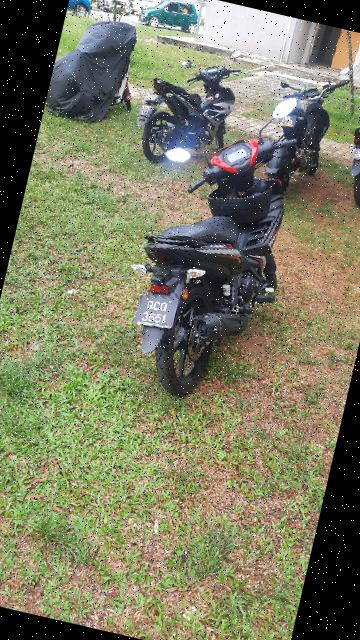License_Plate: (132, 291, 187, 337), (278, 114, 300, 131), (139, 105, 156, 120), (351, 146, 360, 164)
motorcycle: (103, 127, 312, 418), (131, 51, 244, 175), (260, 61, 353, 197), (334, 87, 360, 216)
